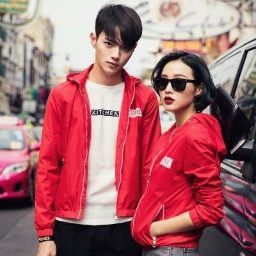face: (152, 47, 213, 119), (89, 4, 142, 81)
